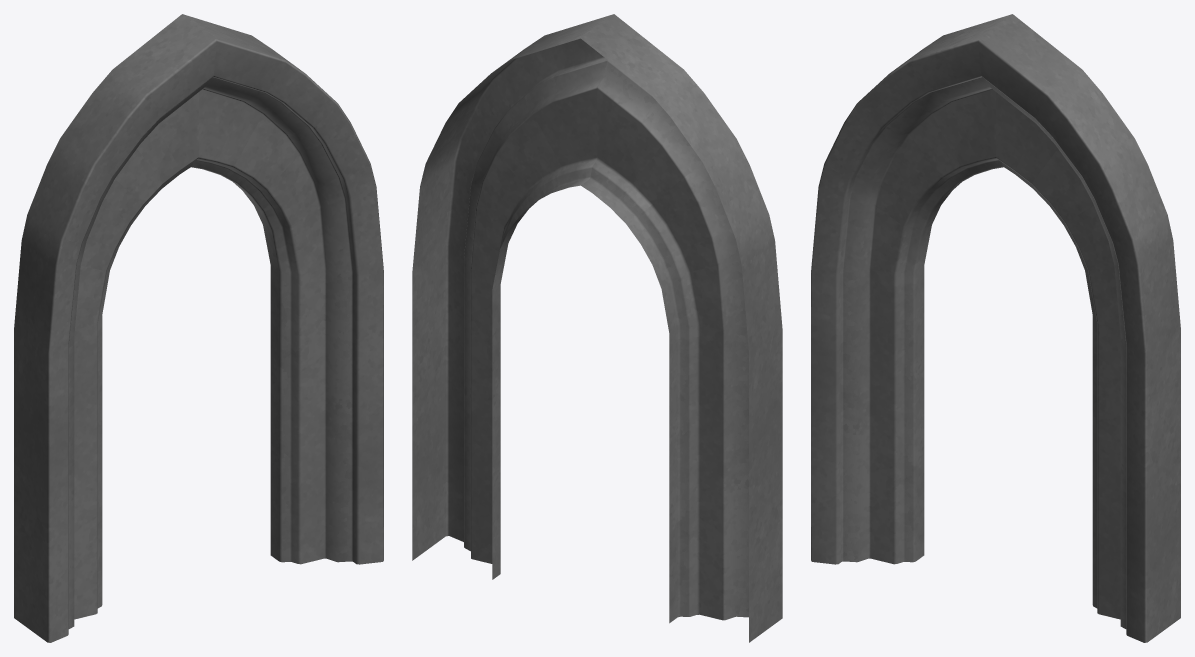
Rendered from Arch_ExteriorMainEntrance.fbx.
3 renders of one model, left to right at view 1: azimuth 30°, elevation 25°; view 2: azimuth 150°, elevation 25°; view 3: azimuth 330°, elevation 25°, orthographic.
Visible parts, largest first — view 1: Arch_ExteriorMainEntrance; view 2: Arch_ExteriorMainEntrance; view 3: Arch_ExteriorMainEntrance.
Boxes of the visible parts, left/top/right/bottom form: Arch_ExteriorMainEntrance: left=14, top=14, right=383, bottom=642; Arch_ExteriorMainEntrance: left=412, top=14, right=782, bottom=642; Arch_ExteriorMainEntrance: left=811, top=14, right=1180, bottom=642.
Bounding box in the file's own units: 742 × 1186 × 133.
1 material, 1 textured.
